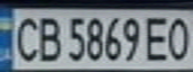5: (63, 14, 87, 62)
6: (103, 14, 124, 62)
8: (84, 14, 106, 62)
9: (121, 14, 145, 62)
B: (33, 12, 63, 63)
C: (9, 12, 42, 64)
E: (142, 12, 172, 62)
O: (163, 14, 193, 62)
